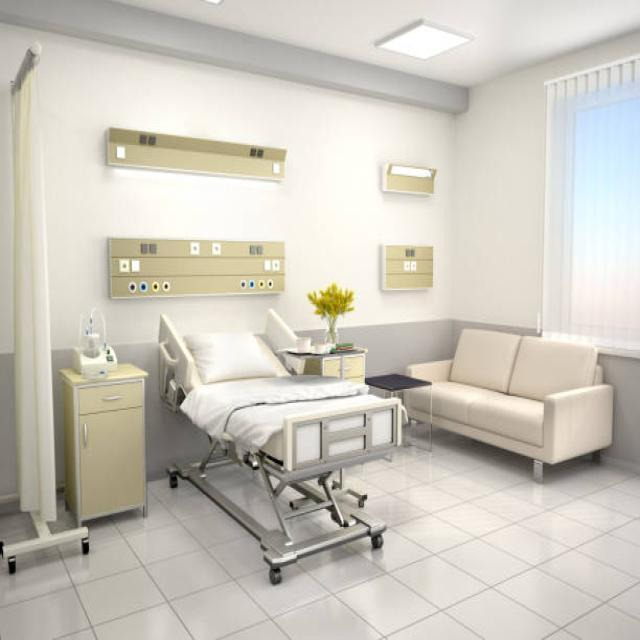bed: (156, 307, 402, 583)
sofa: (404, 326, 614, 481)
tools_table: (51, 347, 159, 554)
